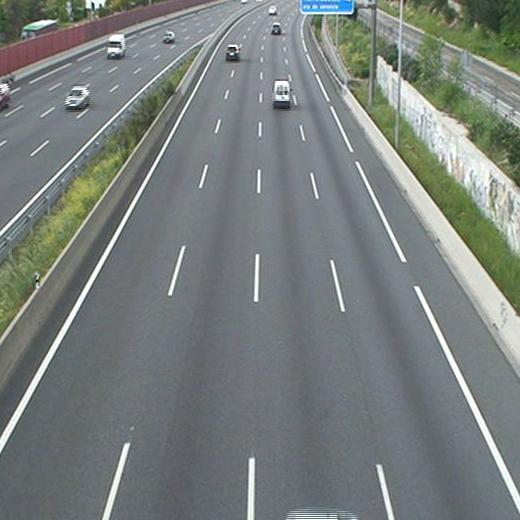car: (272, 79, 291, 107), (224, 44, 240, 61), (271, 23, 280, 34)
